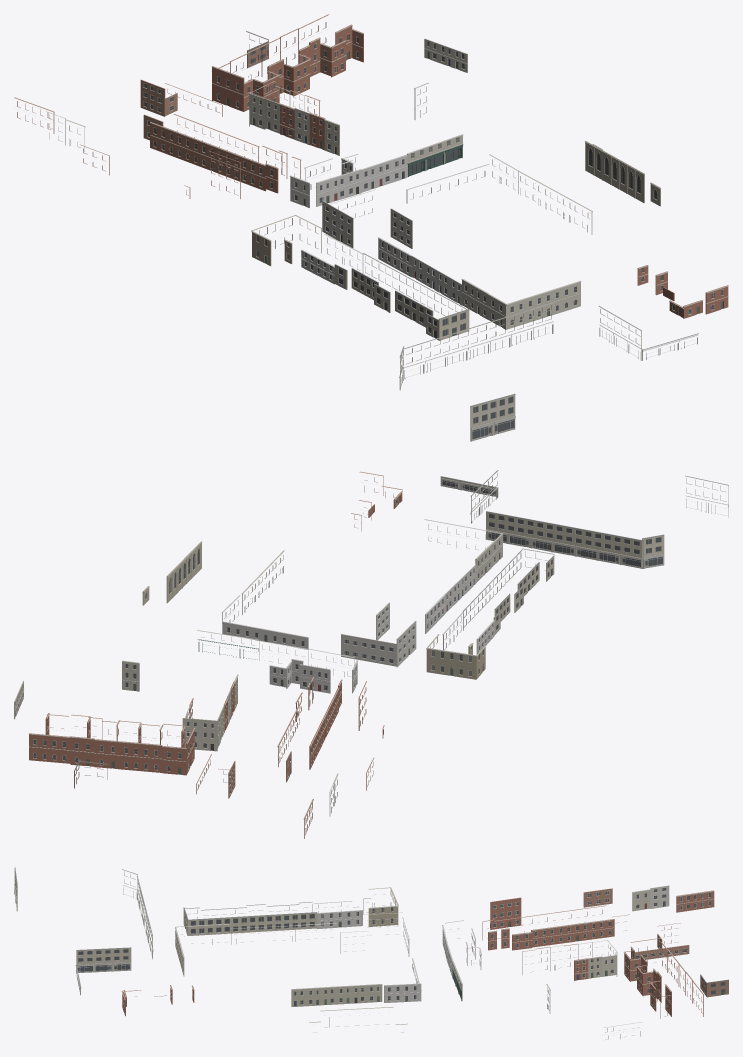
3 views of the same model, one above another, from view 1: azimuth 30°, elevation 25°; view 2: azimuth 150°, elevation 25°; view 3: azimuth 270°, elevation 25° (orthographic). The views are drawn at different scales.
Visible parts, largest first — view 1: f:way/171887771, f:way/171887764, f:way/172147515, f:way/171900571, f:way/171900531, f:way/172145683, f:way/137145303, f:way/171900564, f:way/171900548, f:way/171887759, f:way/171887754, f:way/171900536 (+4 smaller); view 2: f:way/172147515, f:way/171887771, f:way/171900564, f:way/172145683, f:way/171900571, f:way/171900563, f:way/171887764, f:way/972910236, f:way/137145303, f:way/171887770, f:way/171900531, f:way/171900536; view 3: f:way/171900571, f:way/171887764, f:way/172147515, f:way/171887771, f:way/171900539, f:way/171900534, f:way/171900566, f:way/972910236, f:way/171900563, f:way/171887759, f:way/171900579, f:way/172145683 (+8 smaller).
Boxes of the visible parts, <box> form: f:way/171887771: <box>211,14,363,111</box>; f:way/171887764: <box>150,114,301,193</box>; f:way/172147515: <box>399,302,698,441</box>; f:way/171900571: <box>334,253,469,340</box>; f:way/171900531: <box>461,278,581,329</box>; f:way/172145683: <box>290,154,407,207</box>; f:way/137145303: <box>585,141,660,206</box>; f:way/171900564: <box>322,189,412,248</box>; f:way/171900548: <box>637,265,728,318</box>; f:way/171887759: <box>140,79,222,140</box>; f:way/171887754: <box>407,134,463,176</box>; f:way/171900536: <box>411,255,461,305</box>; f:way/172147515: <box>440,470,728,568</box>; f:way/171887771: <box>29,713,194,775</box>; f:way/171900564: <box>341,602,416,667</box>; f:way/172145683: <box>259,640,358,693</box>; f:way/171900571: <box>463,548,554,634</box>; f:way/171900563: <box>426,634,485,679</box>; f:way/171887764: <box>277,677,342,769</box>; f:way/972910236: <box>221,595,308,649</box>; f:way/137145303: <box>142,541,202,605</box>; f:way/171887770: <box>182,713,220,751</box>; f:way/171900531: <box>424,519,503,582</box>; f:way/171900536: <box>444,564,476,613</box>; f:way/171900571: <box>183,901,317,935</box>; f:way/171887764: <box>482,905,614,950</box>; f:way/172147515: <box>14,867,153,995</box>; f:way/171887771: <box>624,938,704,1018</box>; f:way/171900539: <box>291,984,382,1006</box>; f:way/171900534: <box>490,897,521,929</box>; f:way/171900566: <box>312,901,363,928</box>; f:way/972910236: <box>384,958,421,1002</box>; f:way/171900563: <box>363,887,398,926</box>; f:way/171887759: <box>612,914,689,959</box>; f:way/171900579: <box>676,890,714,912</box>; f:way/172145683: <box>442,920,481,977</box>.
Bounding box in the file's own units: 118 × 14.82 × 250.
